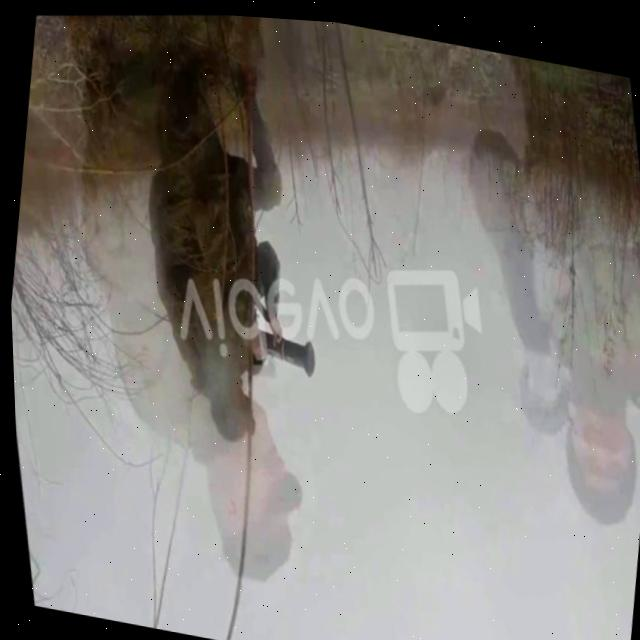rocket: (256, 322, 318, 377)
